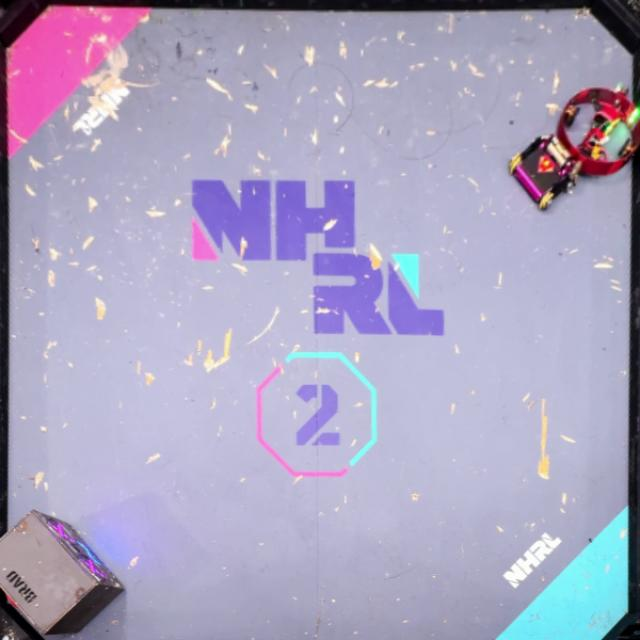housebot: (0, 510, 125, 637)
robot: (556, 85, 640, 176), (508, 135, 576, 210)
